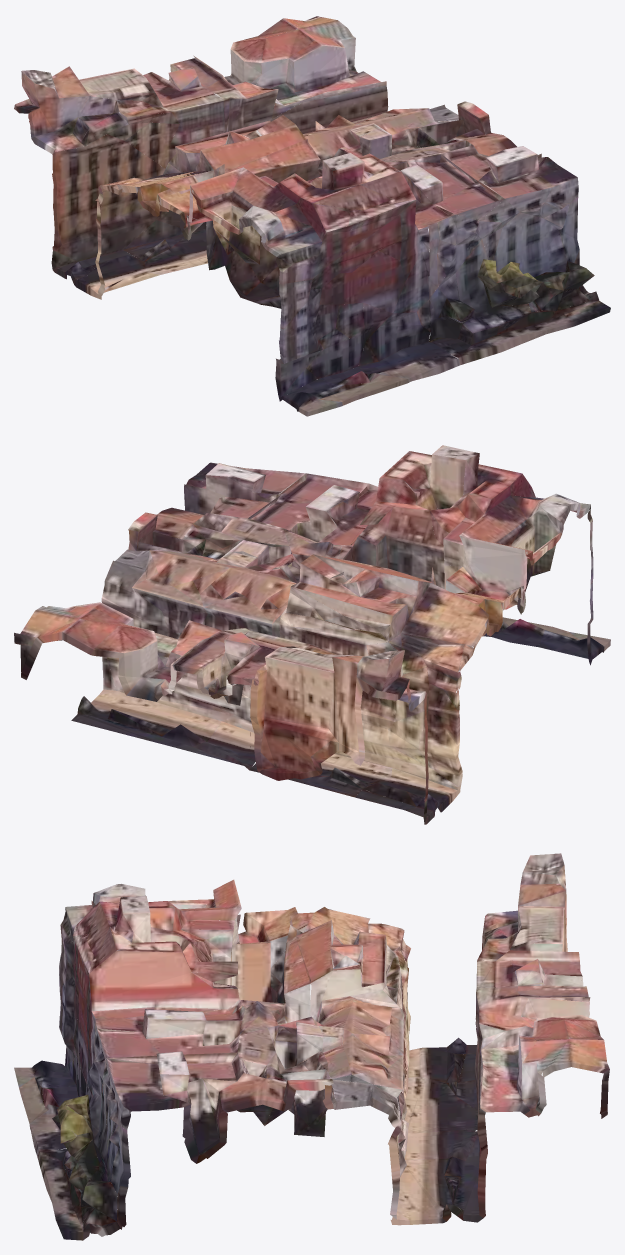
3 views of the same model, one above another, from view 1: azimuth 30°, elevation 25°; view 2: azimuth 150°, elevation 25°; view 3: azimuth 270°, elevation 25° (orthographic). The views are drawn at different scales.
Visible parts, largest first — view 1: Mesh_0; view 2: Mesh_0; view 3: Mesh_0.
Boxes of the visible parts, x1,y1,x2,y2 form: Mesh_0: (14, 16, 610, 416); Mesh_0: (14, 445, 610, 824); Mesh_0: (14, 853, 609, 1240).
Bounding box in the file's own units: 66.55 × 33.75 × 82.71.
2 materials, 2 textured.
